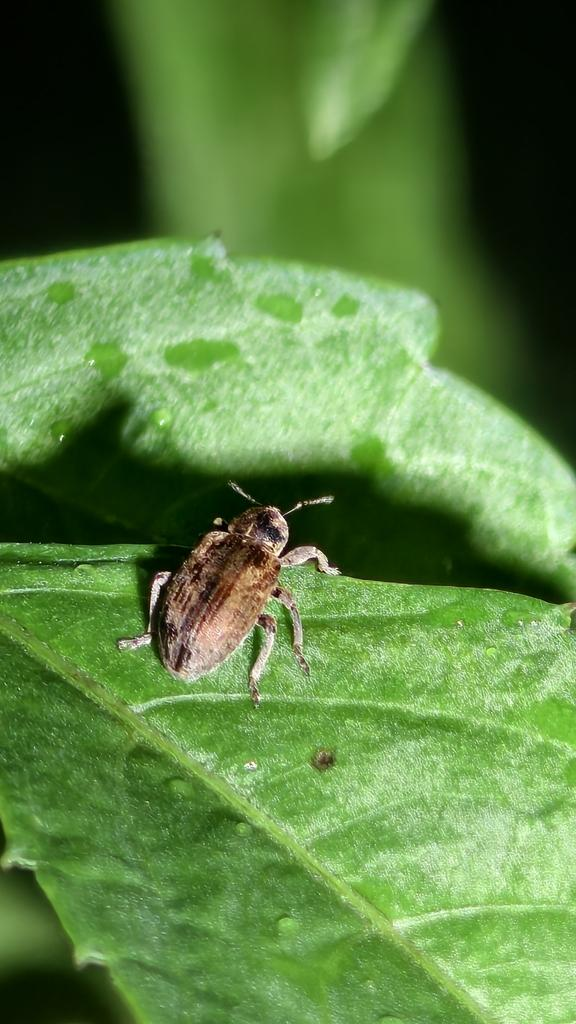weevils: (80, 444, 370, 739)
